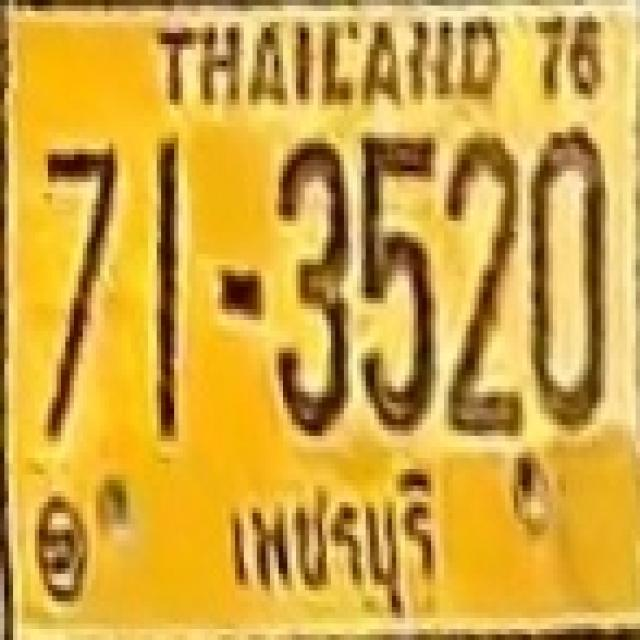0: (527, 124, 605, 422)
1: (152, 138, 184, 447)
2: (444, 130, 525, 440)
3: (272, 135, 346, 433)
5: (357, 130, 445, 439)
7: (43, 146, 127, 445)
PBI: (216, 461, 448, 624)
